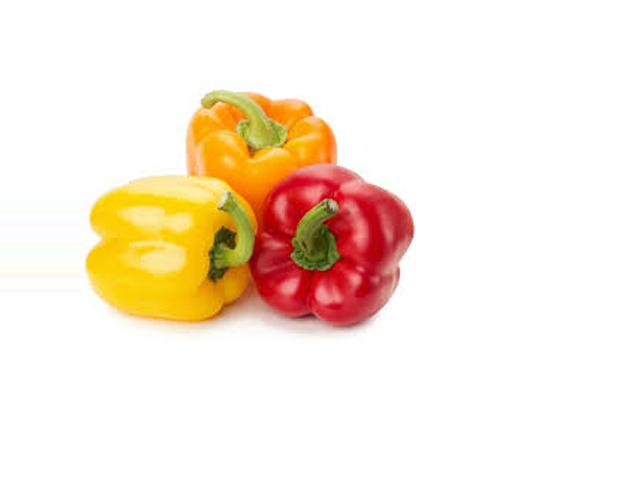bell_pepper: (84, 170, 246, 335)
